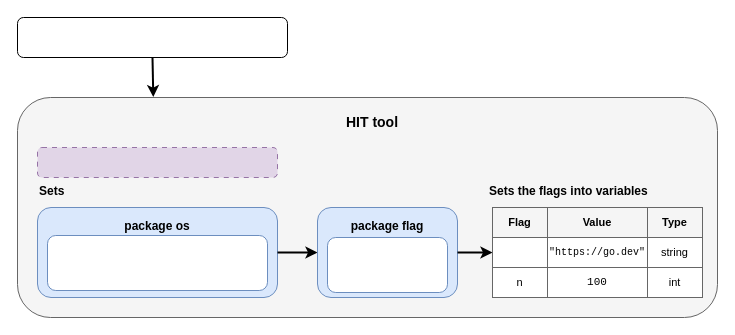
The diagram is 735 pixels wide and 335 high, and some of its shapes have lost their labels. Each missing label, with the centre of its shape:
$ ./hit -url=https://go.dev -n=100: (152,37)
Go runtime: (157,162)
Parses, validates, and converts: (387,264)
url: (520,252)
var Args = []string { "hit", "-url=...", "-n=100", }: (157,262)
